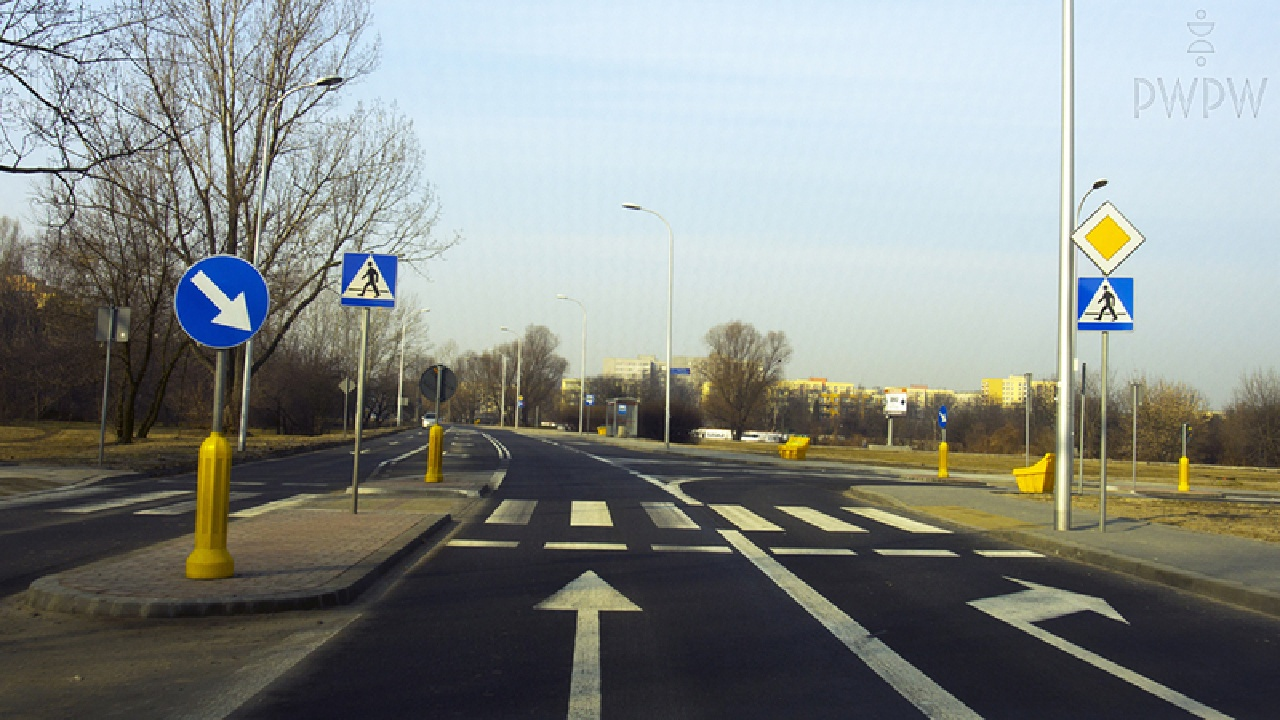C9: (173, 255, 270, 350)
D1: (1070, 201, 1144, 277)
D6: (1077, 277, 1134, 331), (343, 251, 396, 308)
